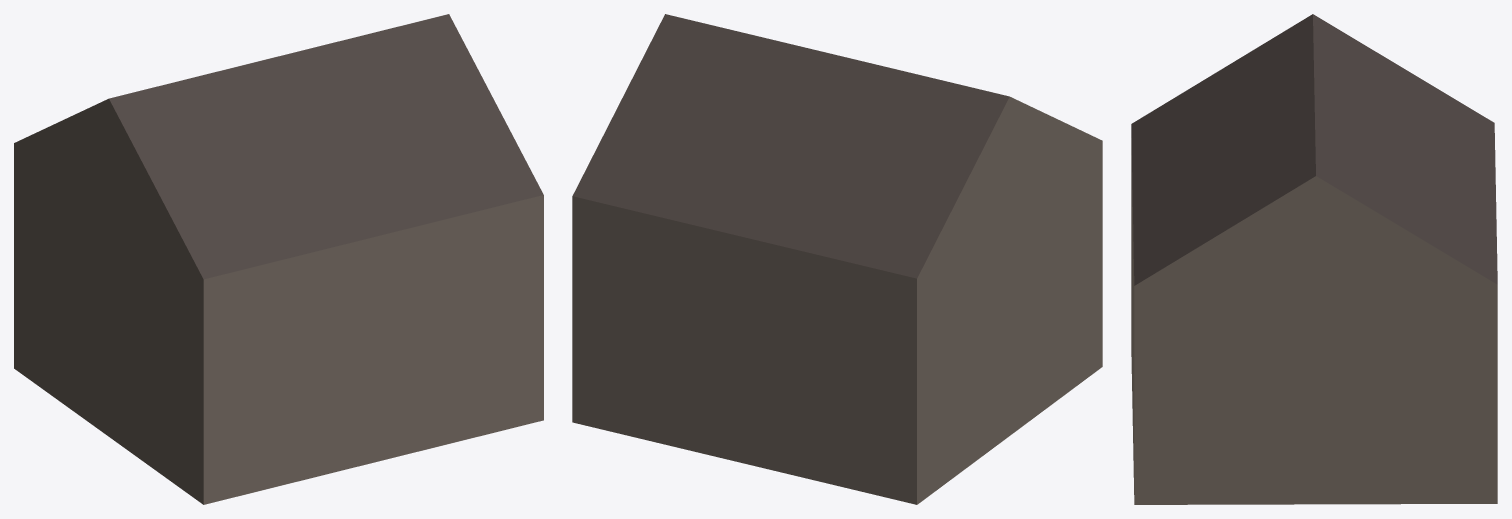
The picture shows the model from 3 angles, left to right: view 1: azimuth 30°, elevation 25°; view 2: azimuth 150°, elevation 25°; view 3: azimuth 270°, elevation 25°; orthographic projection. The views are drawn at different scales.
Visible parts, largest first — view 1: HP-w408450728; view 2: HP-w408450728; view 3: HP-w408450728.
Boxes of the visible parts, x1,y1,x2,y2 form: HP-w408450728: (14,14,543,504); HP-w408450728: (572,14,1102,504); HP-w408450728: (1131,14,1497,504).
Bounding box in the file's own units: 9.59 × 9 × 9.1.
